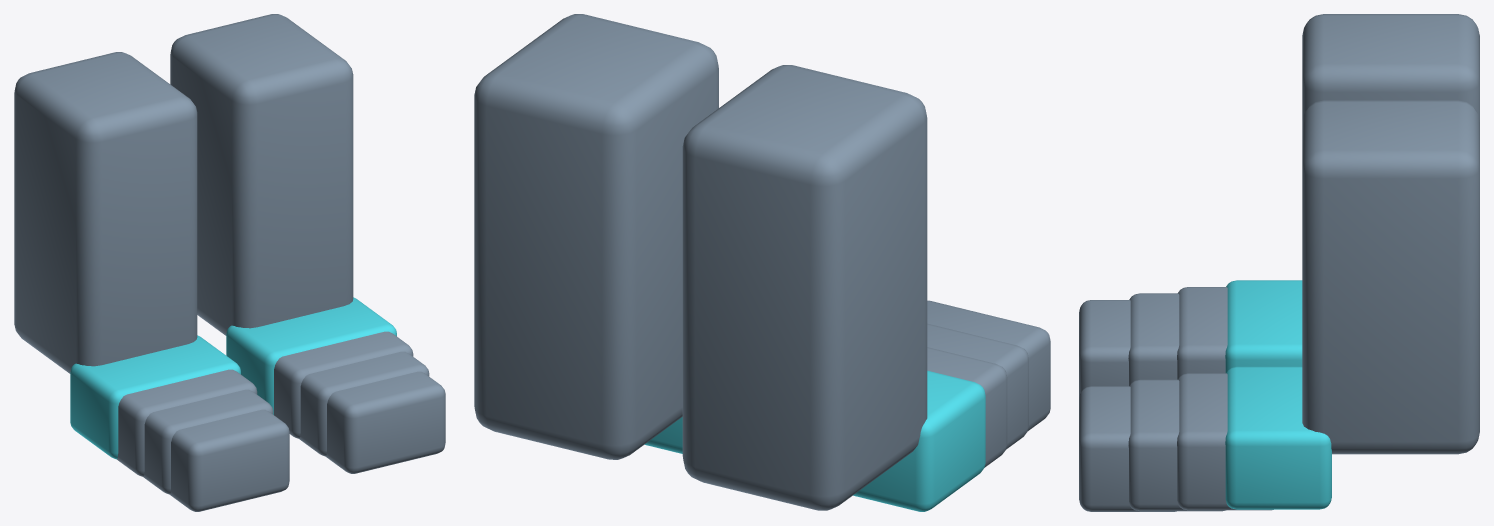
File: boots_v2.glb
3 renders of one model, left to right at view 1: azimuth 30°, elevation 25°; view 2: azimuth 150°, elevation 25°; view 3: azimuth 270°, elevation 25°, orthographic. The views are drawn at different scales.
Visible parts, largest first — view 1: SABATON_ANKLE_PRIMARY, SABATON_ANKLE_PRIMARY.001, SABATON_TOE_PRIMARY.005, SABATON_TOE_PRIMARY.002, SABATON_TOE_ACCENT, SABATON_TOE_ACCENT.001, SABATON_TOE_PRIMARY, SABATON_TOE_PRIMARY.003, SABATON_TOE_PRIMARY.004, SABATON_TOE_PRIMARY.001; view 2: SABATON_ANKLE_PRIMARY, SABATON_ANKLE_PRIMARY.001, SABATON_TOE_ACCENT, SABATON_TOE_PRIMARY.002, SABATON_TOE_PRIMARY.001, SABATON_TOE_PRIMARY, SABATON_TOE_ACCENT.001; view 3: SABATON_ANKLE_PRIMARY.001, SABATON_ANKLE_PRIMARY, SABATON_TOE_ACCENT.001, SABATON_TOE_PRIMARY.003, SABATON_TOE_ACCENT, SABATON_TOE_PRIMARY.004, SABATON_TOE_PRIMARY.005, SABATON_TOE_PRIMARY.002, SABATON_TOE_PRIMARY.001, SABATON_TOE_PRIMARY.
Part boxes in pixels (x1,y1,x2,y2): SABATON_ANKLE_PRIMARY: [14, 52, 197, 373]; SABATON_ANKLE_PRIMARY.001: [170, 14, 353, 335]; SABATON_TOE_PRIMARY.005: [325, 371, 445, 473]; SABATON_TOE_PRIMARY.002: [169, 409, 289, 511]; SABATON_TOE_ACCENT: [70, 335, 240, 459]; SABATON_TOE_ACCENT.001: [226, 297, 396, 414]; SABATON_TOE_PRIMARY: [117, 369, 257, 476]; SABATON_TOE_PRIMARY.003: [274, 331, 413, 438]; SABATON_TOE_PRIMARY.004: [299, 351, 429, 456]; SABATON_TOE_PRIMARY.001: [143, 389, 273, 494]; SABATON_ANKLE_PRIMARY: [682, 65, 927, 510]; SABATON_ANKLE_PRIMARY.001: [474, 14, 718, 459]; SABATON_TOE_ACCENT: [853, 370, 985, 511]; SABATON_TOE_PRIMARY.002: [927, 300, 1050, 430]; SABATON_TOE_PRIMARY.001: [927, 323, 1028, 449]; SABATON_TOE_PRIMARY: [927, 347, 1007, 467]; SABATON_TOE_ACCENT.001: [644, 417, 682, 453]; SABATON_ANKLE_PRIMARY.001: [1302, 100, 1479, 454]; SABATON_ANKLE_PRIMARY: [1302, 14, 1479, 121]; SABATON_TOE_ACCENT.001: [1225, 366, 1331, 509]; SABATON_TOE_PRIMARY.003: [1177, 373, 1273, 510]; SABATON_TOE_ACCENT: [1225, 280, 1302, 372]; SABATON_TOE_PRIMARY.004: [1128, 379, 1225, 511]; SABATON_TOE_PRIMARY.005: [1079, 386, 1176, 511]; SABATON_TOE_PRIMARY.002: [1079, 300, 1130, 397]; SABATON_TOE_PRIMARY.001: [1128, 293, 1179, 385]; SABATON_TOE_PRIMARY: [1177, 287, 1227, 379].
Size of the model in its own units: 1.4 by 1.48 by 1.49.
